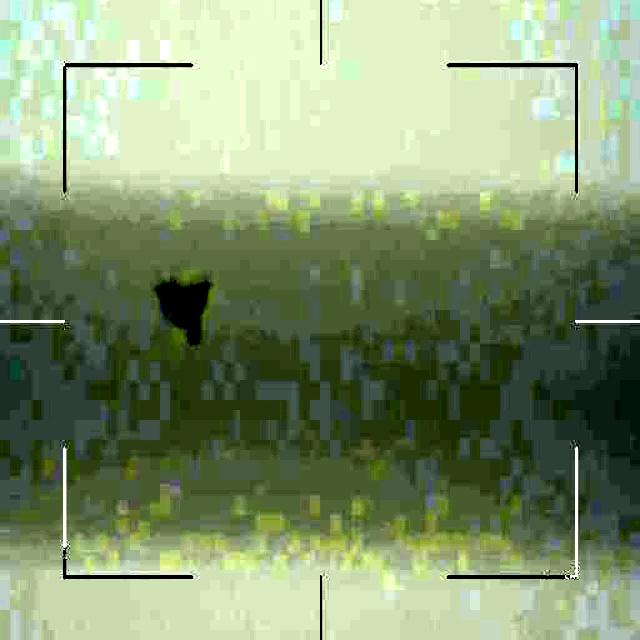bird: (150, 278, 222, 355)
